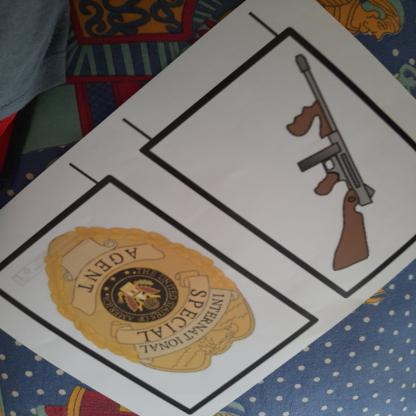Bootlegger: (237, 49, 398, 273)
G-man: (42, 204, 267, 377)
